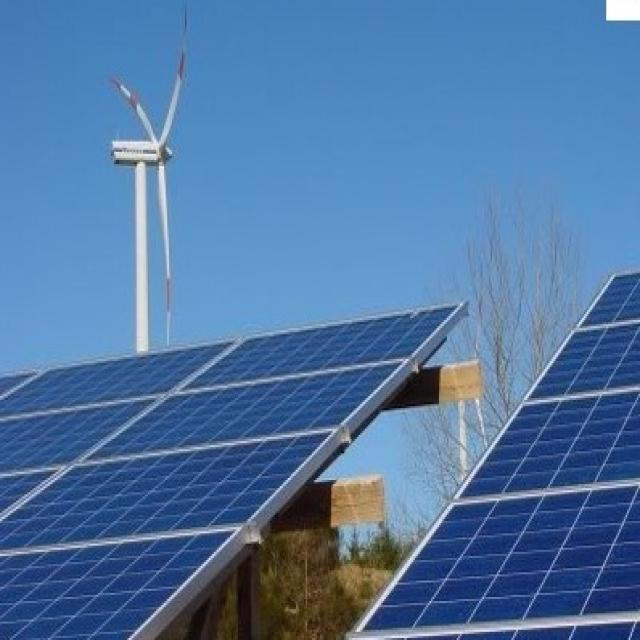clean-solar-panel: (0, 305, 466, 640), (352, 273, 640, 639)
